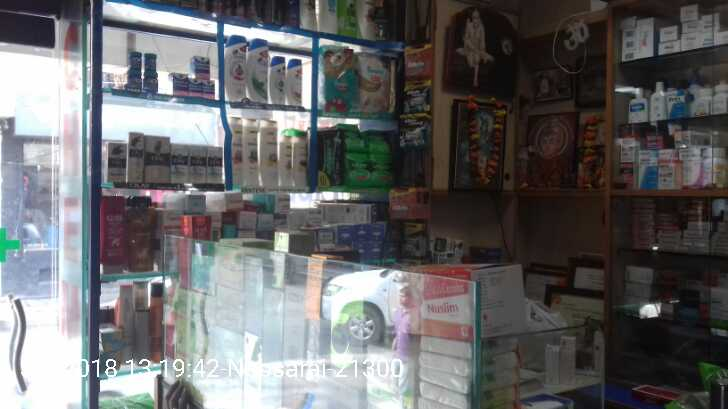vicks: (121, 49, 218, 96)
